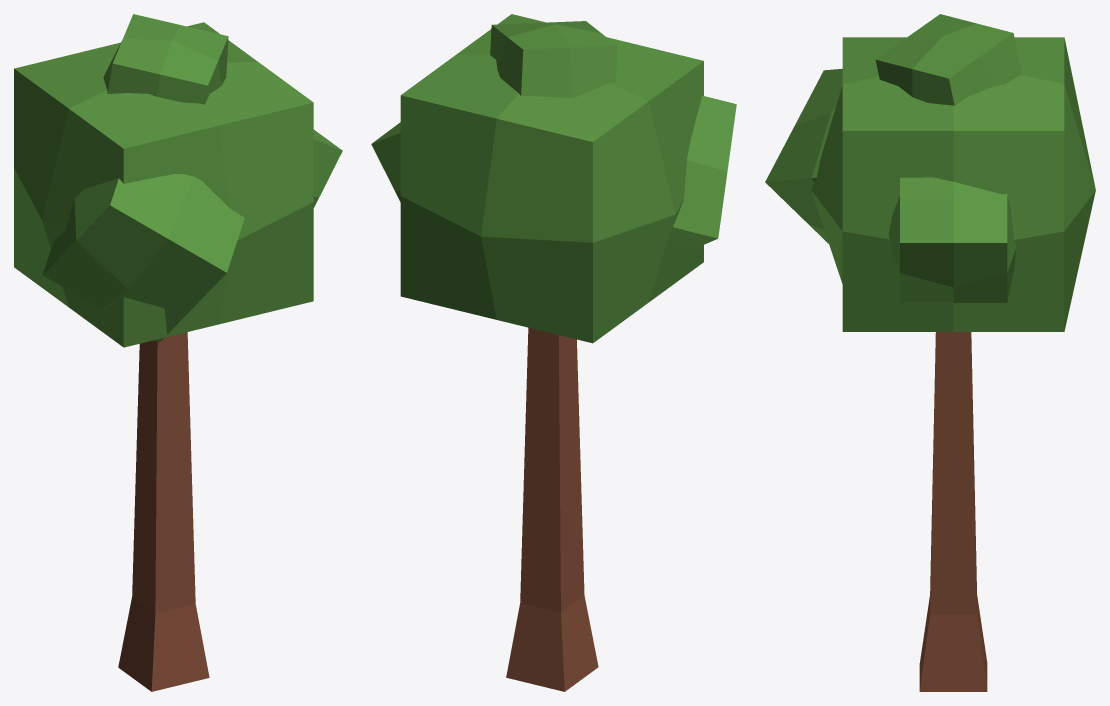
Rendered from Tree_43_summer_mat.fbx.
3 views of the same model, side by side, from view 1: azimuth 30°, elevation 25°; view 2: azimuth 150°, elevation 25°; view 3: azimuth 270°, elevation 25° (orthographic).
Visible parts, largest first — view 1: Tree_43_summer_mat; view 2: Tree_43_summer_mat; view 3: Tree_43_summer_mat.
Part boxes in pixels (x1=…): Tree_43_summer_mat: x1=14, y1=14, x2=342, y2=691; Tree_43_summer_mat: x1=371, y1=14, x2=736, y2=691; Tree_43_summer_mat: x1=765, y1=14, x2=1095, y2=691.
Size of the model in its own units: 76.72 by 158 by 73.68.
